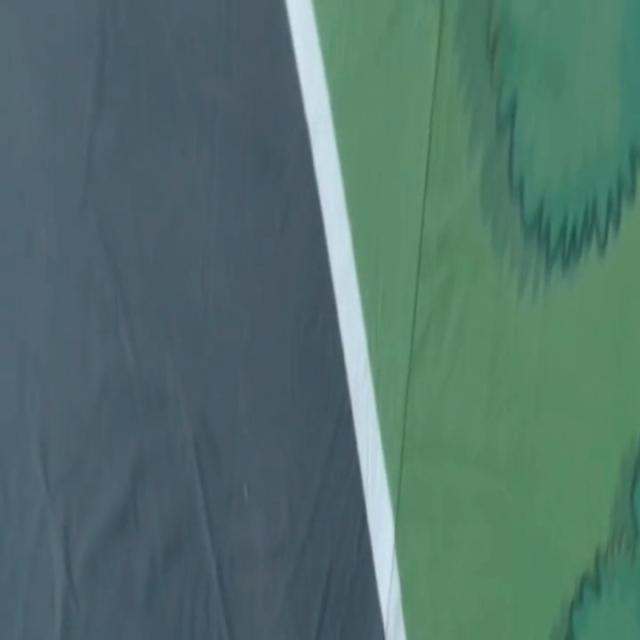right: (284, 0, 405, 639)
